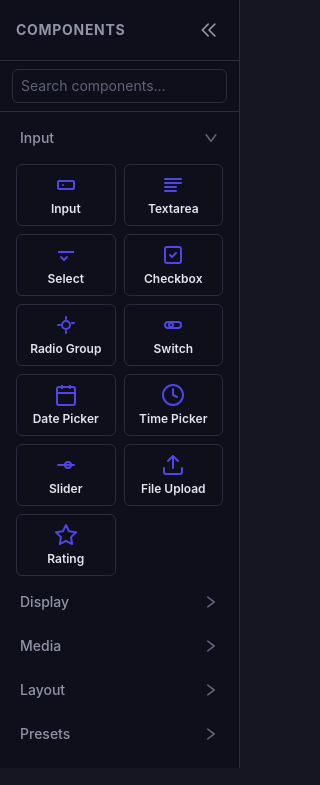
Test: ComponentPalette › renders Divider in Layout category
This screenshot has width=320, height=785.
// Expand the Layout category (exact match to avoid matching "Presets")
Click the button "Layout".
click(120, 690)  # box [8, 672, 231, 708]
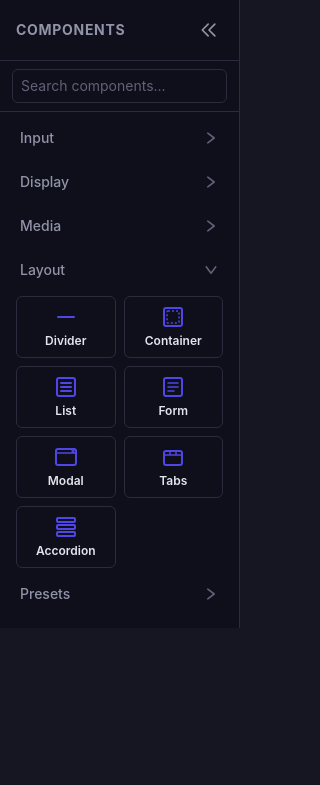
Now the element with test id "palette-item-DIVIDER" is shown, box [16, 296, 116, 358]
